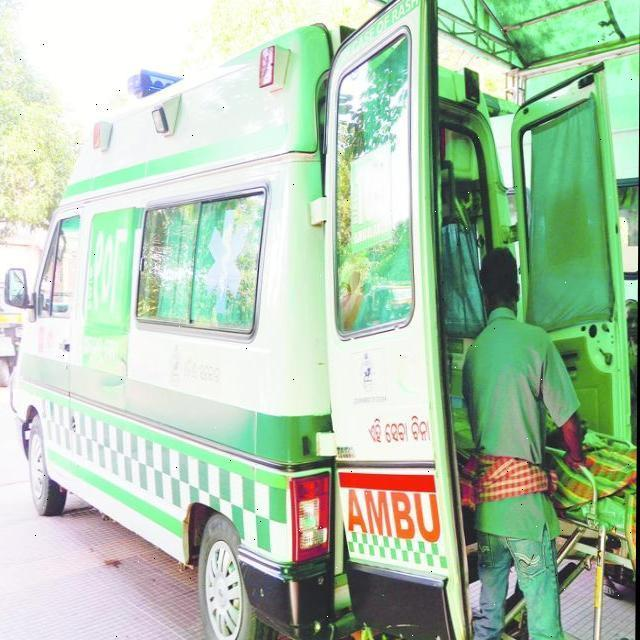Ambulance: (2, 2, 636, 637), (0, 372, 636, 639), (456, 245, 588, 639), (542, 425, 637, 514)
